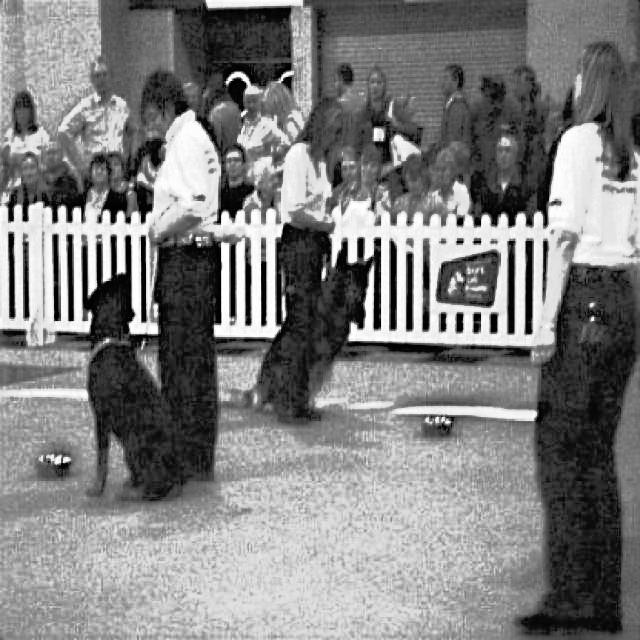Dog: (220, 235, 378, 420), (74, 265, 180, 513)
Person: (504, 38, 640, 639), (144, 63, 244, 480), (273, 85, 353, 431)
